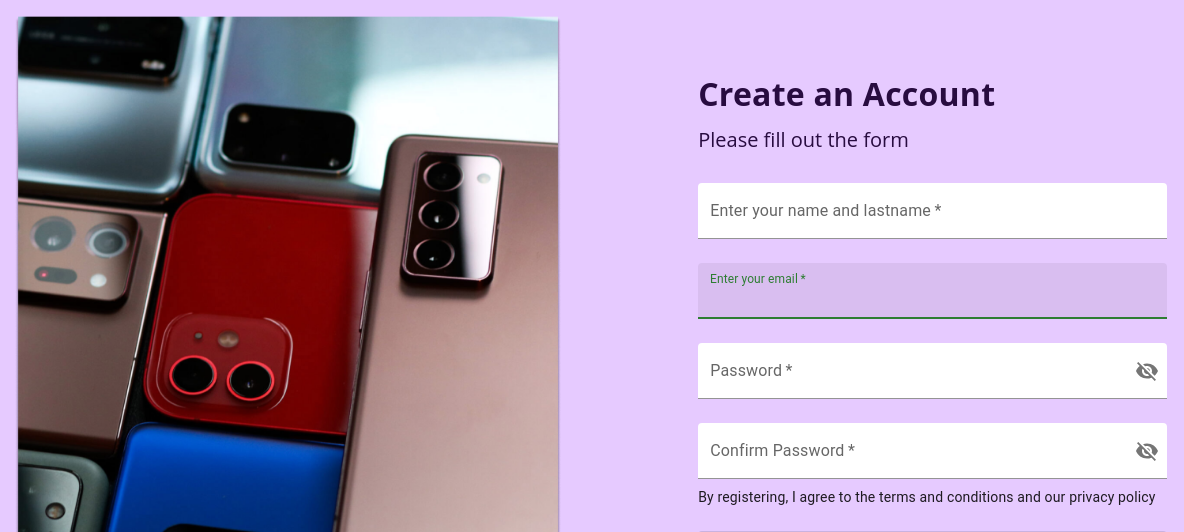
Test: name is not empty
Click the element with test id "name" at (933, 211), box [698, 183, 1167, 239]
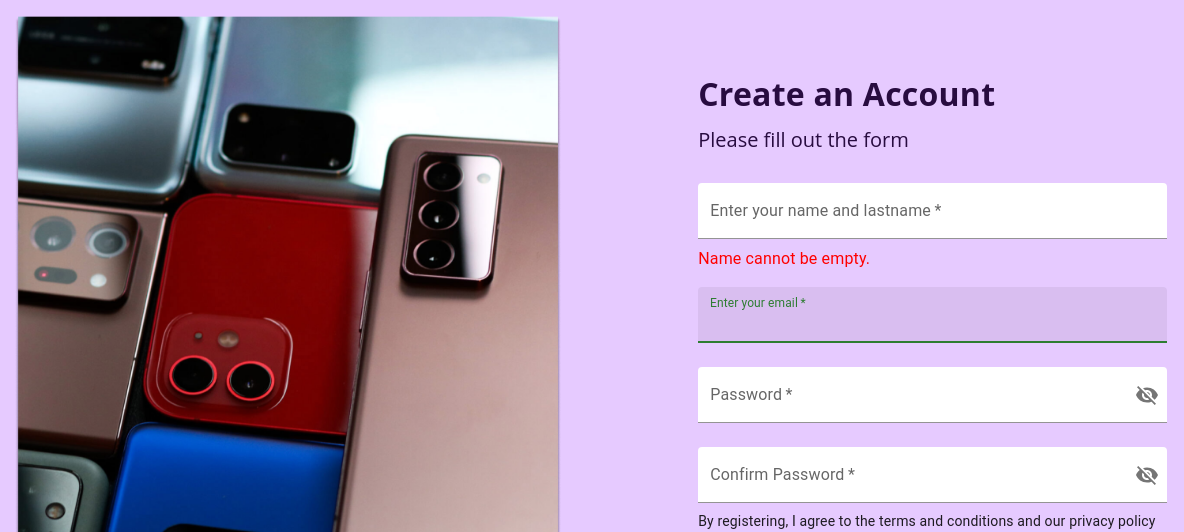
Expected: the text with test id "nameError" reads "Name cannot be empty.", [698, 249, 870, 268]
